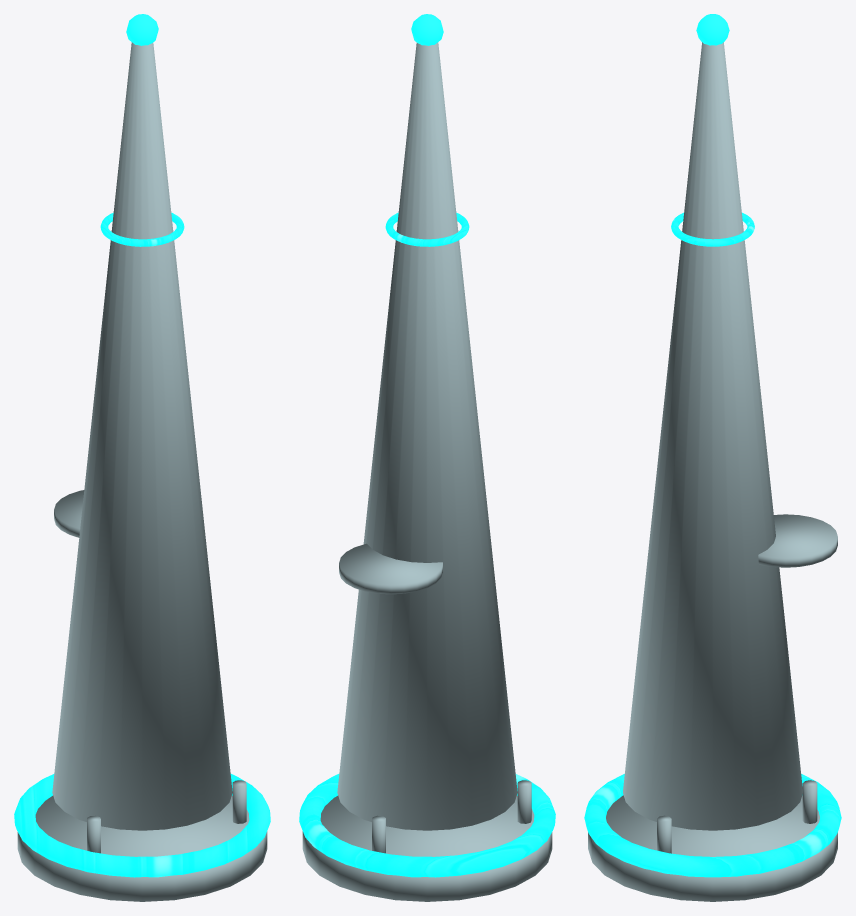
Rendered from azure_pulse_obelisk.glb.
3 views of the same model, side by side, from view 1: azimuth 30°, elevation 25°; view 2: azimuth 150°, elevation 25°; view 3: azimuth 270°, elevation 25° (orthographic).
Visible parts, largest first — view 1: AzurePulseObelisk; view 2: AzurePulseObelisk; view 3: AzurePulseObelisk.
Part boxes in pixels (<box>): AzurePulseObelisk: <box>14,14,270,901</box>; AzurePulseObelisk: <box>299,14,555,901</box>; AzurePulseObelisk: <box>584,14,841,901</box>.
Bounding box in the file's own units: 1.48 × 5.31 × 1.48.
2 materials, 2 textured.
